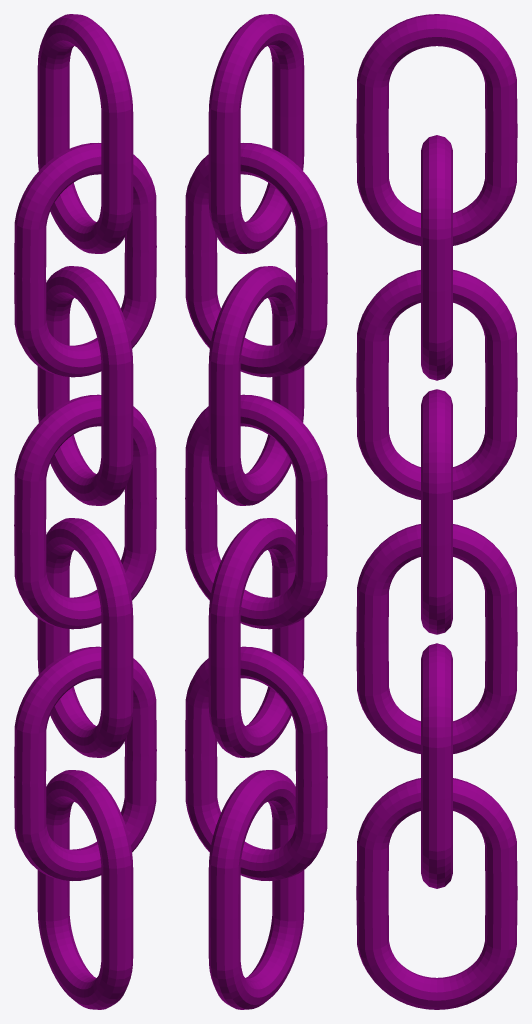
File: stick.gltf
3 renders of one model, left to right at view 1: azimuth 30°, elevation 25°; view 2: azimuth 150°, elevation 25°; view 3: azimuth 270°, elevation 25°, orthographic.
Parts seen in each view (by area): view 1: 振り子バー; view 2: 振り子バー; view 3: 振り子バー.
Part boxes in pixels (<box>): 振り子バー: <box>14,14,156,1009</box>; 振り子バー: <box>185,14,327,1009</box>; 振り子バー: <box>356,14,517,1009</box>.
Size of the model in its own units: 1.3 by 8.84 by 1.3.
Materials: 1 (1 with a texture image).
